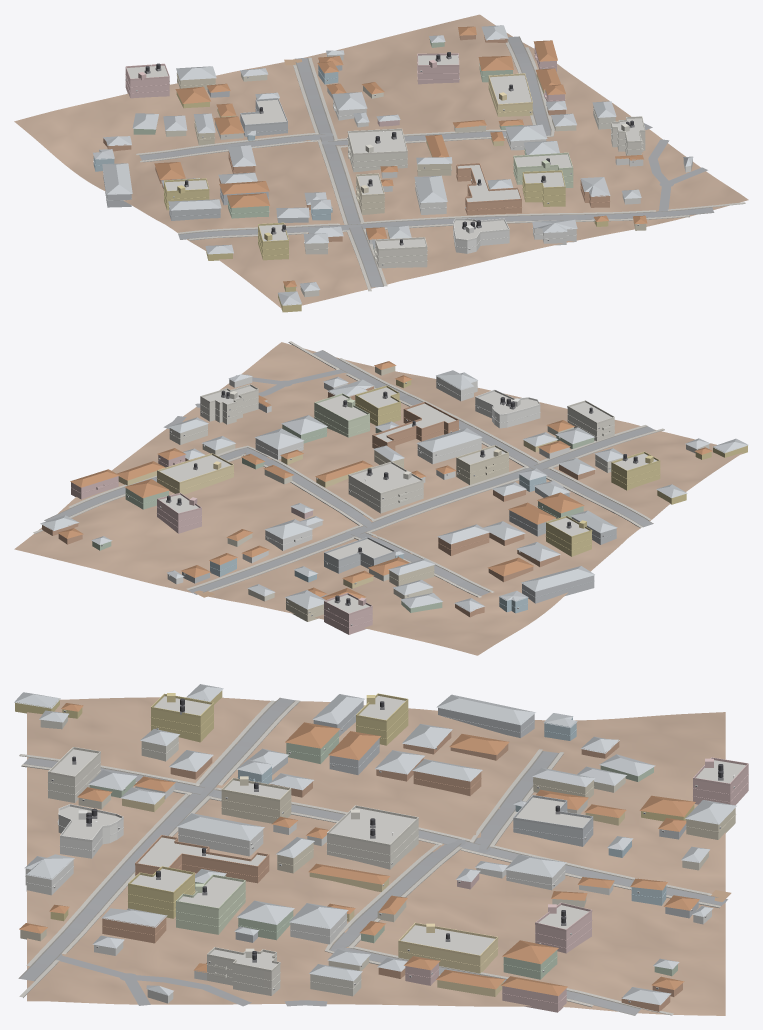
3 renders of one model, top to bottom at view 1: azimuth 30°, elevation 25°; view 2: azimuth 150°, elevation 25°; view 3: azimuth 270°, elevation 25°, orthographic. The views are drawn at different scales.
Visible parts, largest first — view 1: Terrain-col, Buildings-col, Roads-col, Details, Sidewalks-col; view 2: Terrain-col, Buildings-col, Roads-col, Details, Sidewalks-col; view 3: Terrain-col, Buildings-col, Roads-col, Details, Sidewalks-col.
Part boxes in pixels (box(x1,y1,x2,y2)): Terrain-col: box(14, 14, 748, 308); Buildings-col: box(93, 25, 693, 312); Roads-col: box(139, 36, 714, 287); Details: box(93, 35, 645, 287); Sidewalks-col: box(136, 41, 745, 291); Terrain-col: box(14, 342, 743, 655); Buildings-col: box(40, 361, 748, 634); Roads-col: box(44, 350, 655, 597); Details: box(71, 382, 699, 628); Sidewalks-col: box(33, 341, 664, 597); Terrain-col: box(27, 697, 725, 1015); Buildings-col: box(14, 684, 748, 1012); Roads-col: box(18, 697, 731, 1015); Details: box(25, 693, 748, 1003); Sidewalks-col: box(19, 700, 720, 1015).
Bounding box in the file's own units: 268 × 22.42 × 269.
